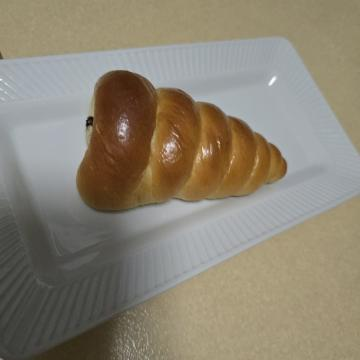cream horn: (62, 59, 231, 300)
